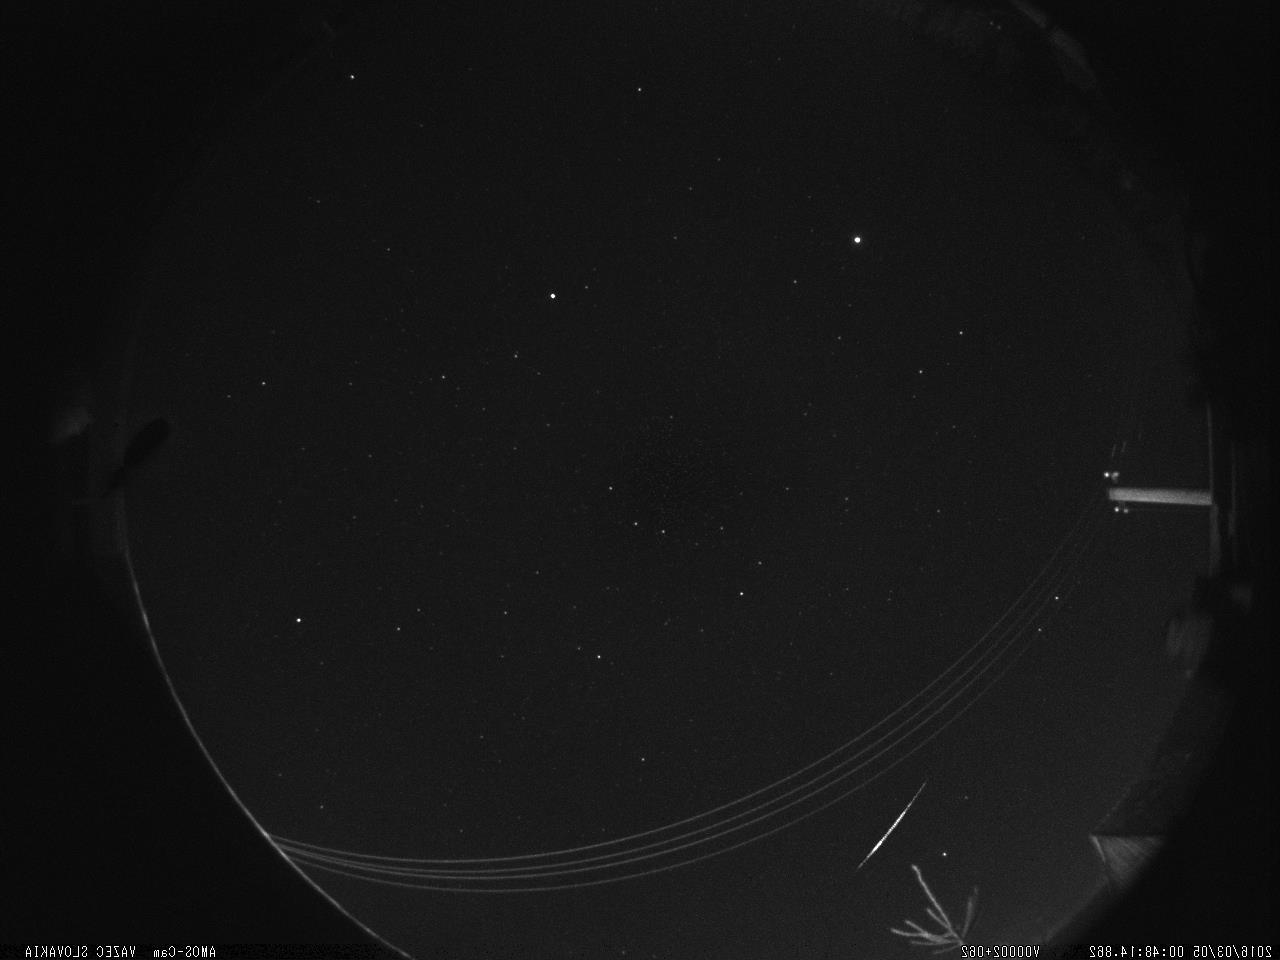meteor: (842, 777, 937, 877)
